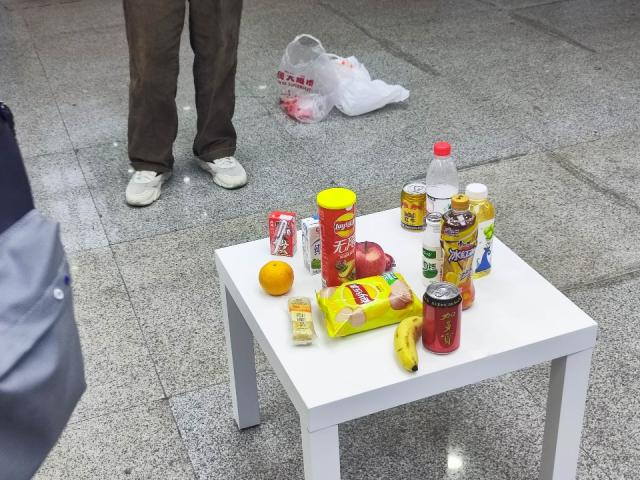Canned_drinks: (422, 281, 462, 360), (398, 178, 432, 232)
bottle: (446, 192, 474, 308), (424, 213, 444, 278)
cylinder: (318, 189, 357, 282)
drink_box: (268, 209, 298, 257), (302, 215, 322, 275)
